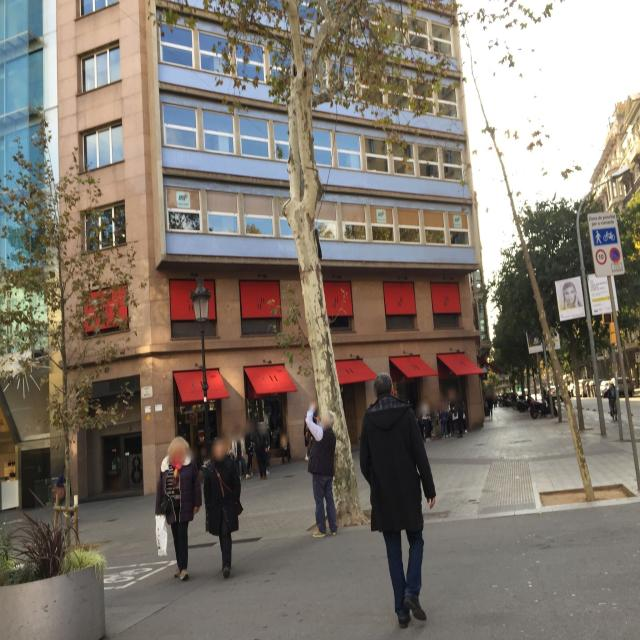forb_stopping: (609, 247, 620, 263)
